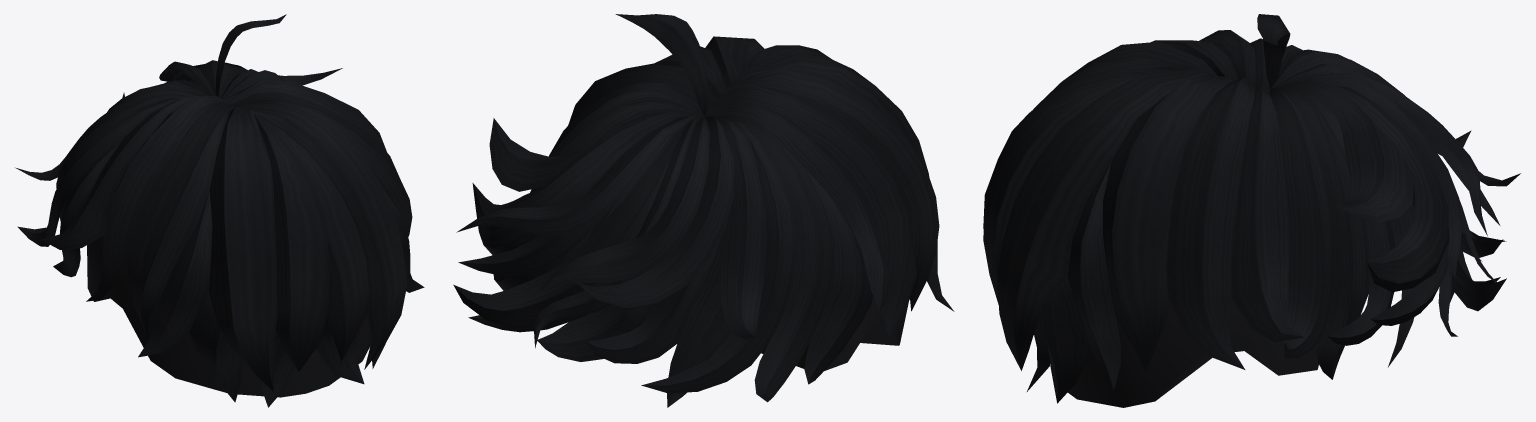
The picture shows the model from 3 angles, left to right: view 1: azimuth 30°, elevation 25°; view 2: azimuth 150°, elevation 25°; view 3: azimuth 270°, elevation 25°; orthographic projection. The views are drawn at different scales.
Parts seen in each view (by area): view 1: geometry_0; view 2: geometry_0; view 3: geometry_0.
Boxes of the visible parts, x1,y1,x2,y2 form: geometry_0: (15, 14, 424, 407); geometry_0: (453, 14, 954, 407); geometry_0: (983, 14, 1520, 407).
Size of the model in its own units: 1.6 by 1.38 by 1.82.
1 material, 1 textured.
